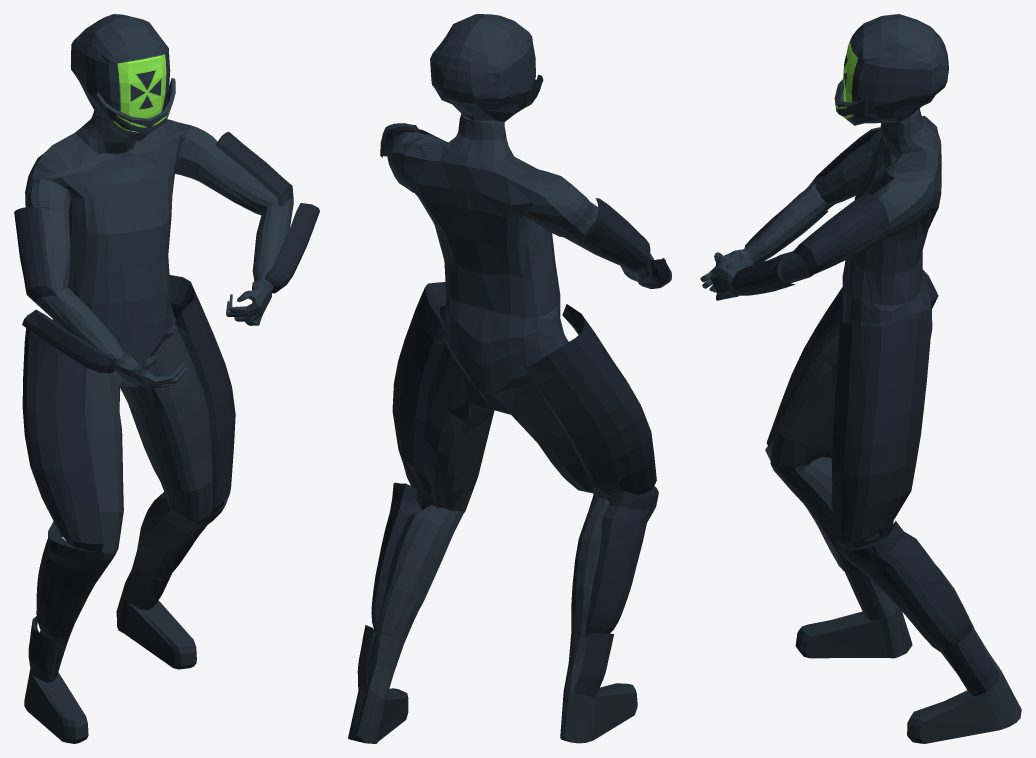
The model's file is Bastion_Hit_Recover_000011.obj.
3 renders of one model, left to right at view 1: azimuth 30°, elevation 25°; view 2: azimuth 150°, elevation 25°; view 3: azimuth 270°, elevation 25°, orthographic. The views are drawn at different scales.
Parts seen in each view (by area): view 1: Cube.002; view 2: Cube.002; view 3: Cube.002.
Boxes of the visible parts, x1=… form: Cube.002: x1=14, y1=14, x2=319, y2=743; Cube.002: x1=348, y1=14, x2=671, y2=743; Cube.002: x1=700, y1=14, x2=1021, y2=743.
Size of the model in its own units: 1.58 by 3.66 by 1.56.
